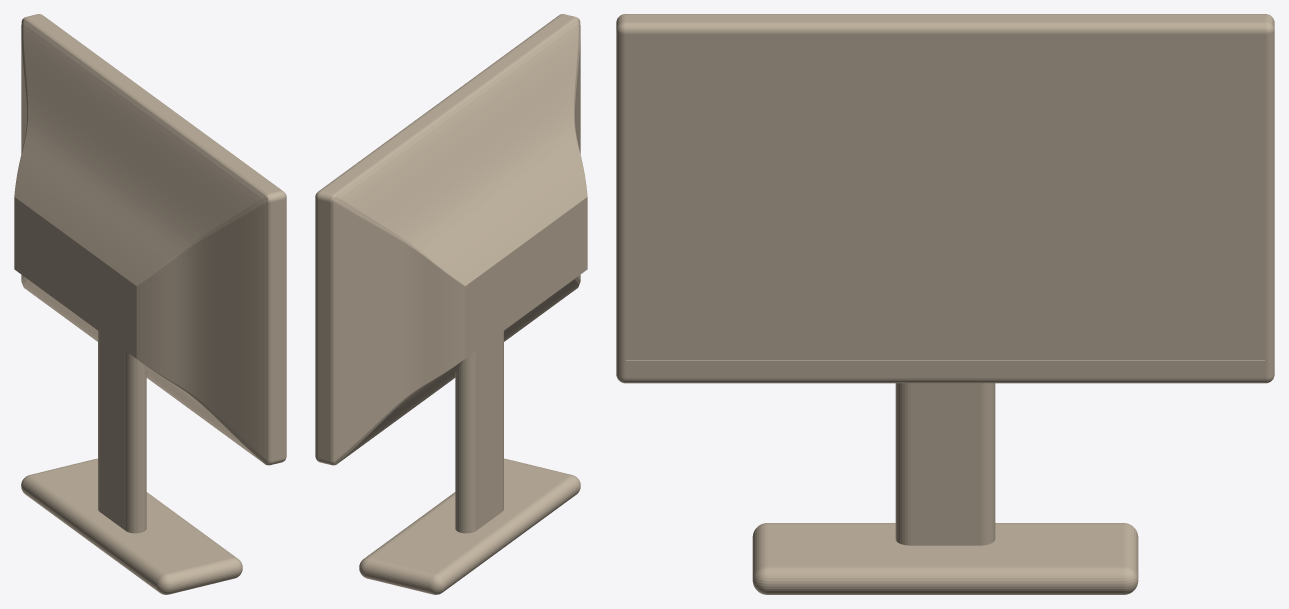
File: 3dcodebench_Monitor_seed0.glb
The picture shows the model from 3 angles, left to right: view 1: azimuth 30°, elevation 25°; view 2: azimuth 150°, elevation 25°; view 3: azimuth 270°, elevation 25°; orthographic projection. The views are drawn at different scales.
Parts seen in each view (by area): view 1: object; view 2: object; view 3: object.
Boxes of the visible parts, bbox=[...] form: object: bbox=[14, 14, 286, 594]; object: bbox=[315, 14, 587, 594]; object: bbox=[616, 14, 1274, 594].
Size of the model in its own units: 0.139 by 0.5743 by 0.6033.
